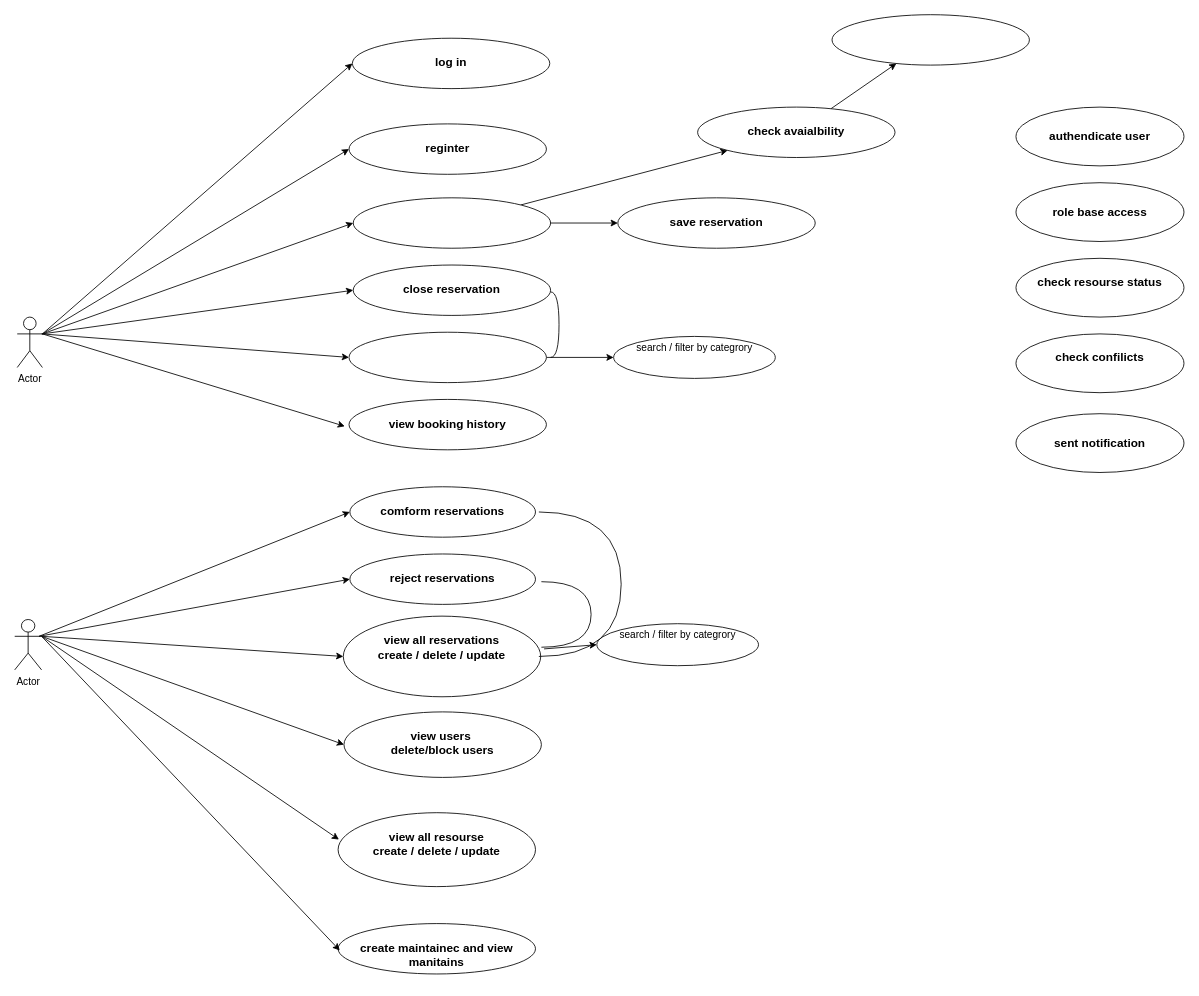
Image size: 1199x996. Some labels were removed from this diagram. Each missing label, with the centre of its shape:
create reservation: (451,222)
Free time: (930,39)
view available reservation: (447,357)
